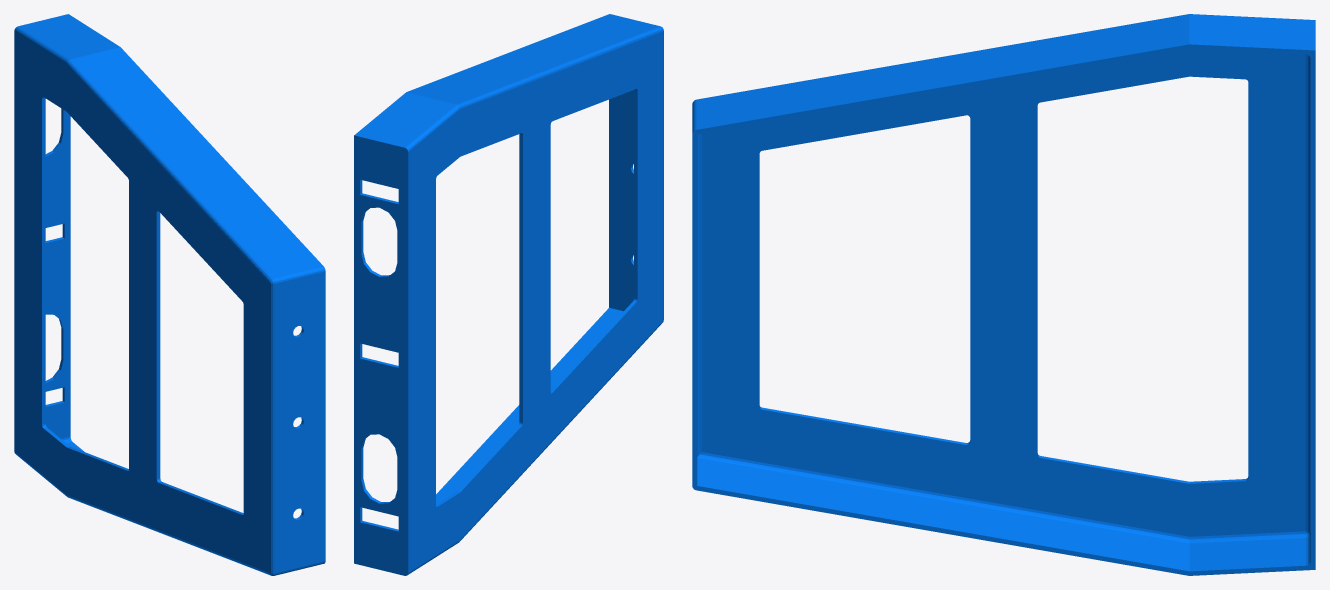
Rendered from rambler_Chasis_vis_19.dae.
3 renders of one model, left to right at view 1: azimuth 30°, elevation 25°; view 2: azimuth 150°, elevation 25°; view 3: azimuth 270°, elevation 25°, orthographic. The views are drawn at different scales.
Visible parts, largest first — view 1: Node_0x7fe0fc4d5380; view 2: Node_0x7fe0fc4d5380; view 3: Node_0x7fe0fc4d5380.
Part boxes in pixels (bbox=[...]): Node_0x7fe0fc4d5380: bbox=[14, 14, 325, 575]; Node_0x7fe0fc4d5380: bbox=[354, 14, 663, 575]; Node_0x7fe0fc4d5380: bbox=[692, 14, 1315, 575].
Bounding box in the file's own units: 0.045 × 0.348 × 0.37.
